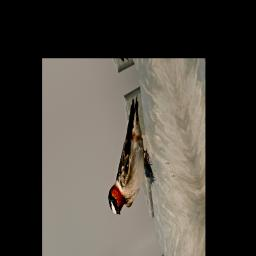Swallow: (88, 94, 161, 221)
